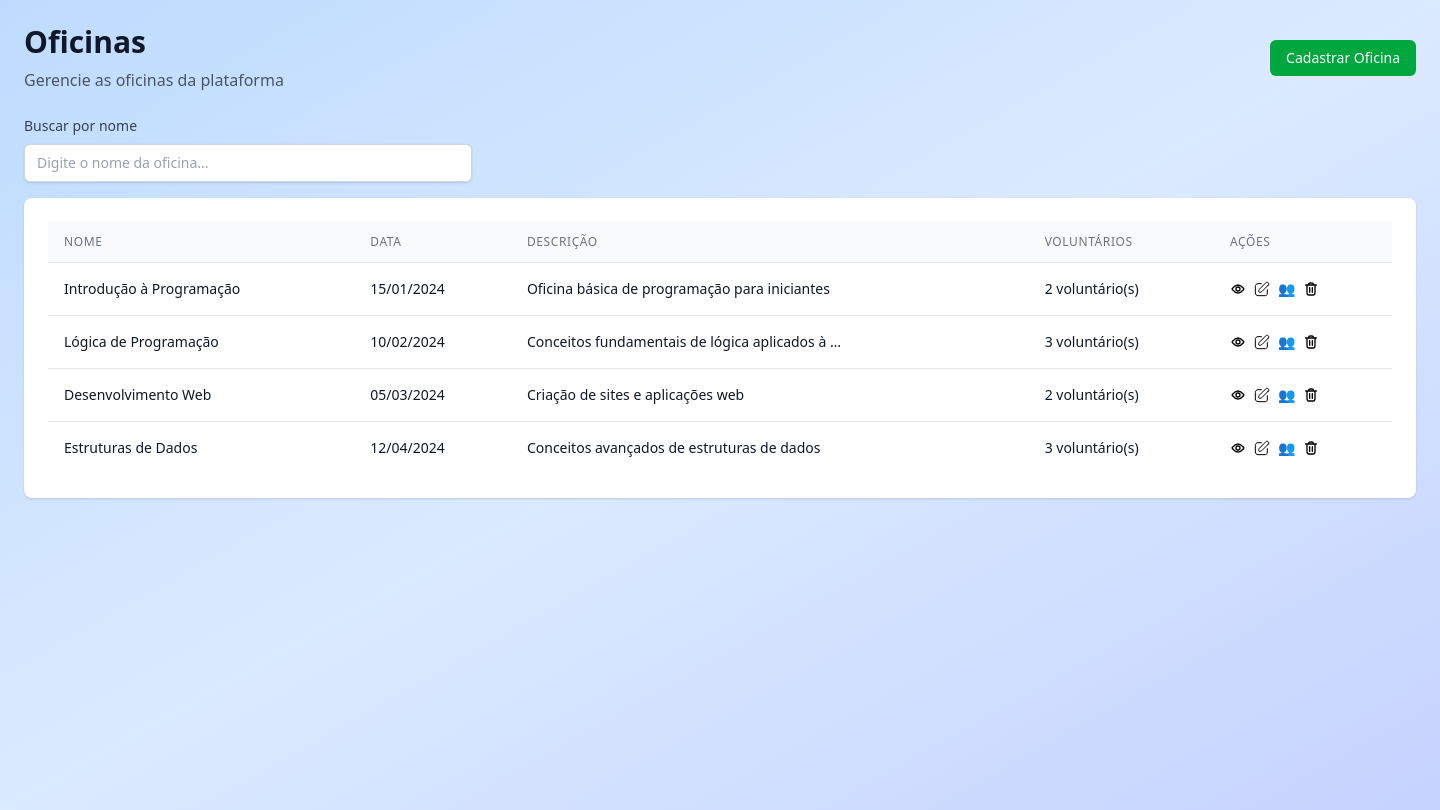
Test: WorkshopsPage › should open create modal when clicking create button
Step 1. Click the button "Cadastrar Oficina" → [1343, 58], box [1270,40,1416,76]
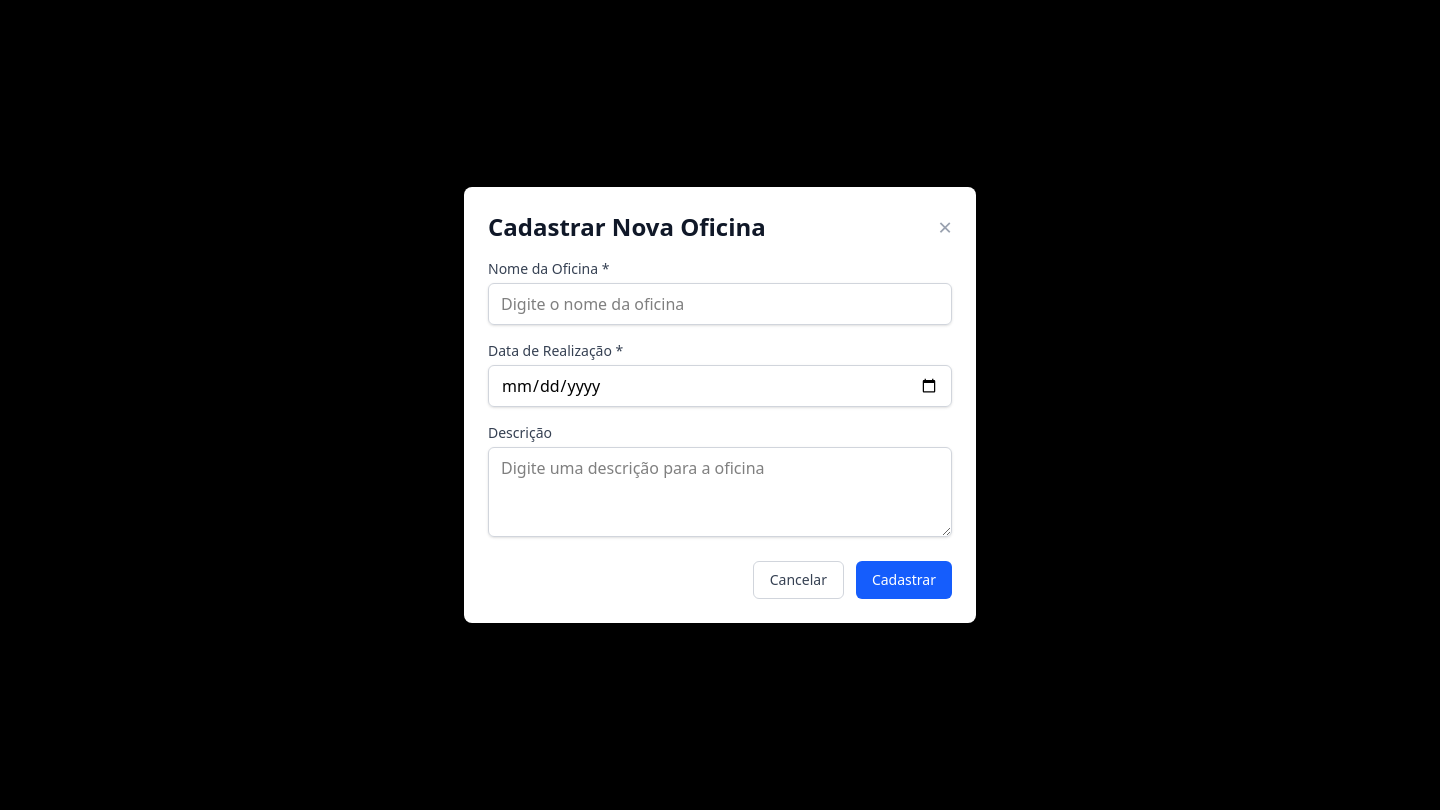
Check: the text "Nome da Oficina *" is shown, box [488,259,609,278]
